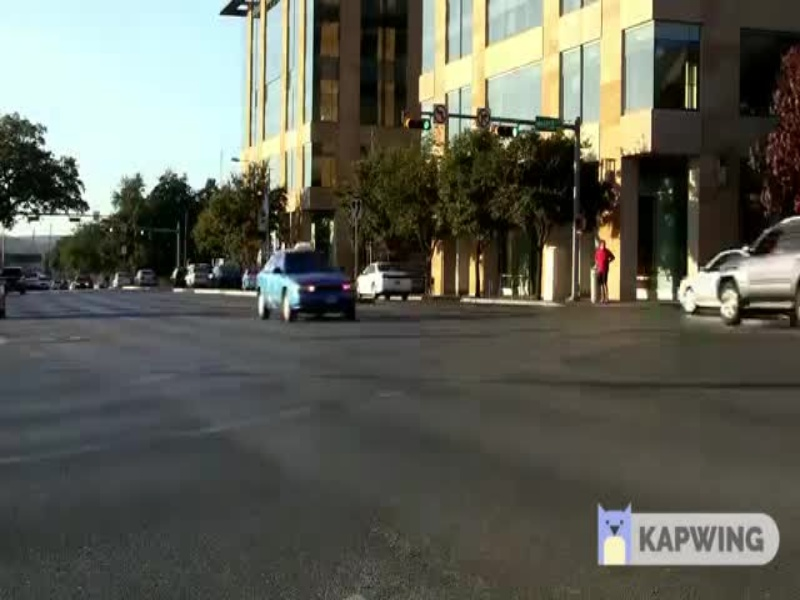car: (249, 240, 362, 330)
